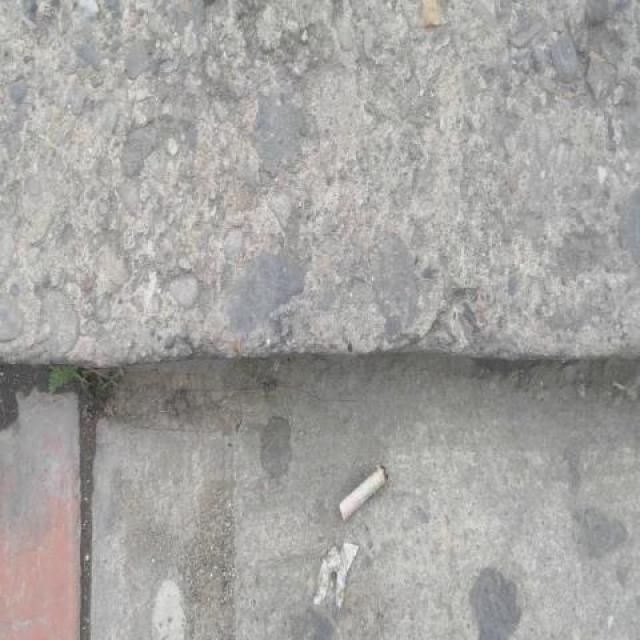non-organic waste: (335, 460, 392, 523)
